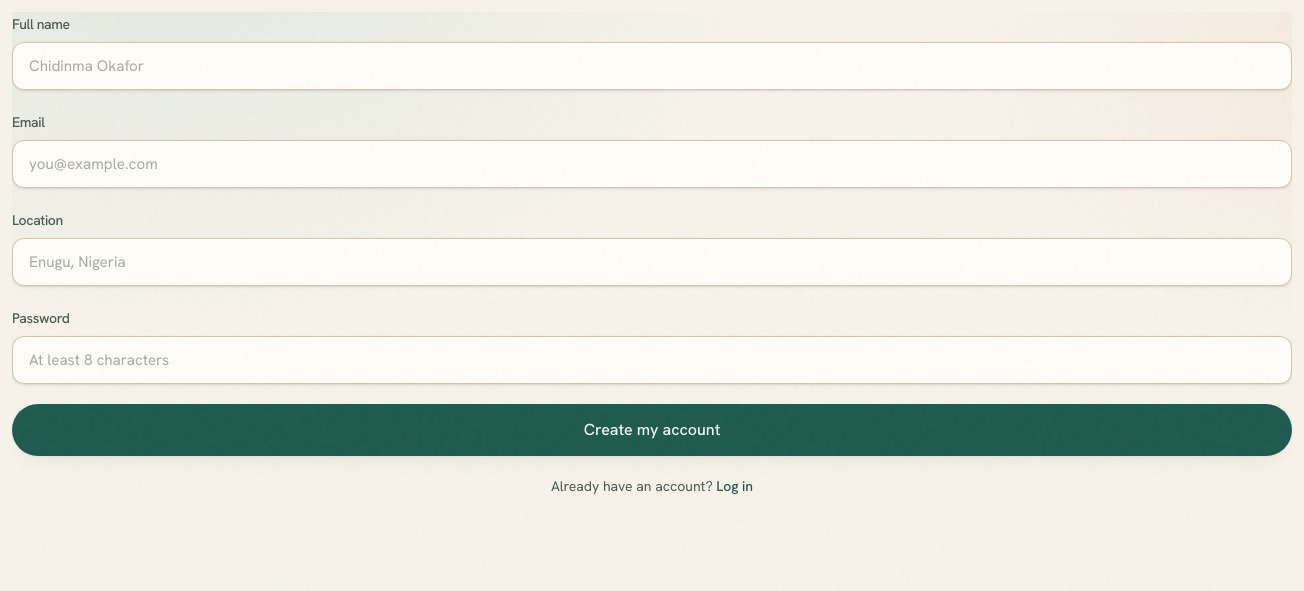
Test case: AuthForm (signup) › validates required fields
Click the button "Create my account" at (652, 430), box [12,404,1292,456]
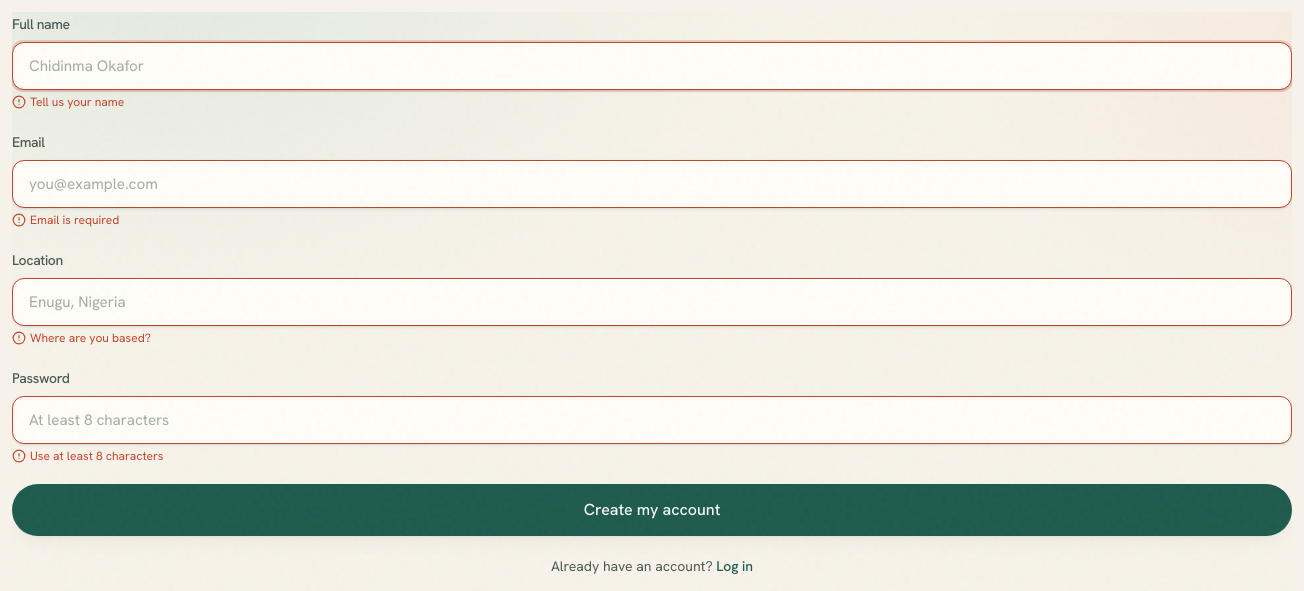
Check: the text "Tell us your name" is shown, box [12,94,124,110]
Check: the text "Use at least 8 characters" is shown, box [12,448,163,464]
